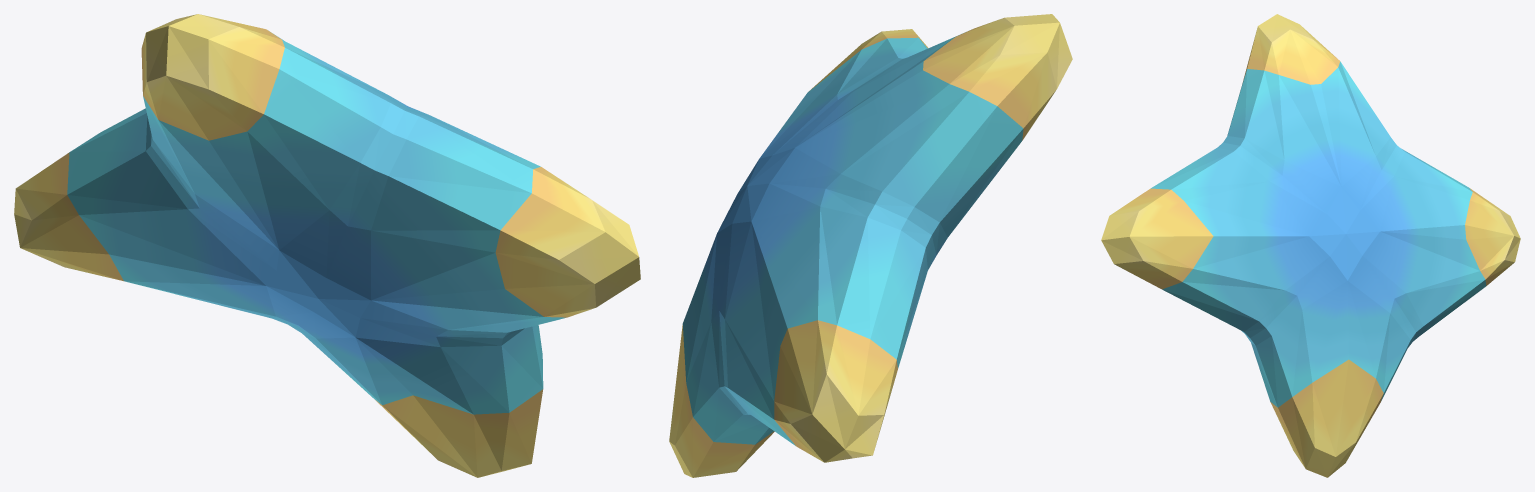
The model's file is CharSkyKid_Horn_AP32Seastar.glb.
3 renders of one model, left to right at view 1: azimuth 30°, elevation 25°; view 2: azimuth 150°, elevation 25°; view 3: azimuth 270°, elevation 25°, orthographic. The views are drawn at different scales.
Visible parts, largest first — view 1: CharSkyKid_Horn_AP32Seastar; view 2: CharSkyKid_Horn_AP32Seastar; view 3: CharSkyKid_Horn_AP32Seastar.
Boxes of the visible parts, left/top/right/bottom form: CharSkyKid_Horn_AP32Seastar: left=14, top=14, right=640, bottom=477; CharSkyKid_Horn_AP32Seastar: left=669, top=14, right=1072, bottom=477; CharSkyKid_Horn_AP32Seastar: left=1101, top=14, right=1520, bottom=477.
Size of the model in its own units: 0.7755 by 1.03 by 1.12.
1 material, 1 textured.
